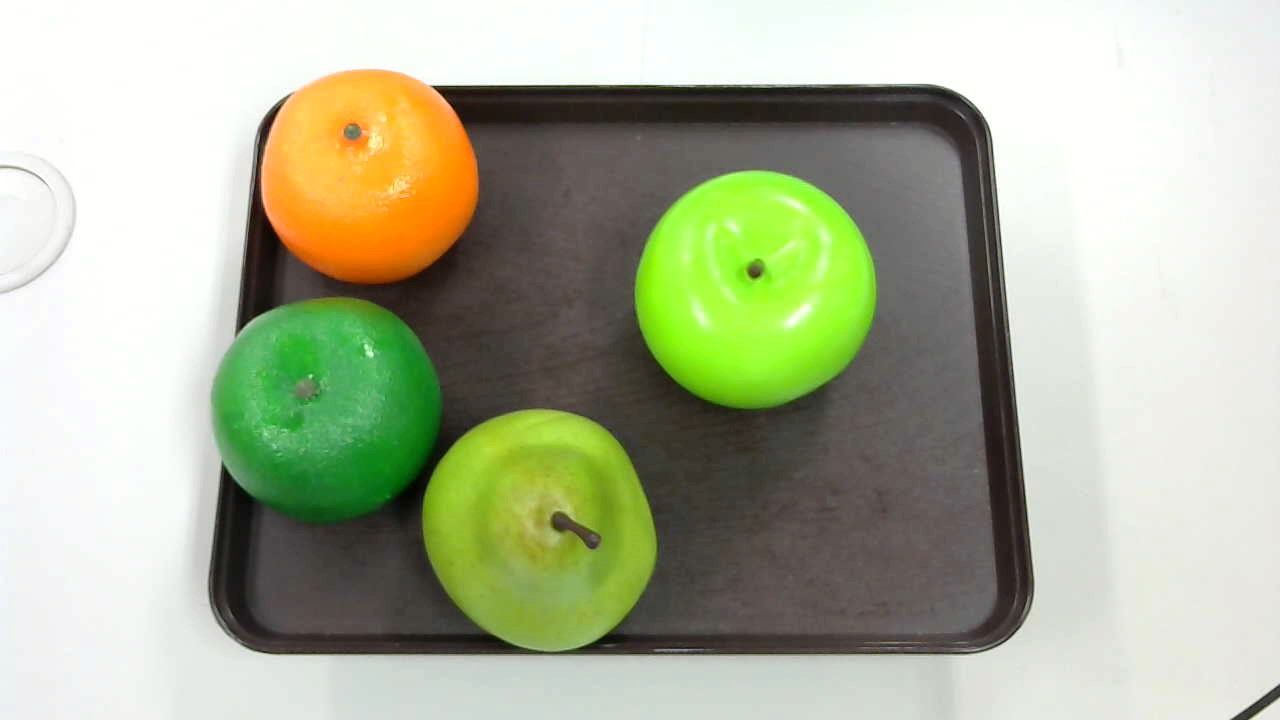green apple: (633, 170, 877, 411)
green orange: (209, 293, 449, 521)
green pear: (417, 404, 668, 649)
orange: (258, 67, 479, 281)
